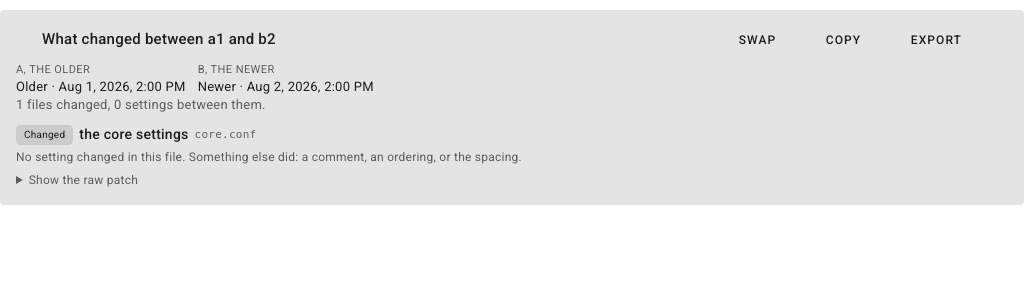
the export menu › downloads the chosen format and closes the menu
Click the button "Export" at (927, 40), box [879,26,974,54]
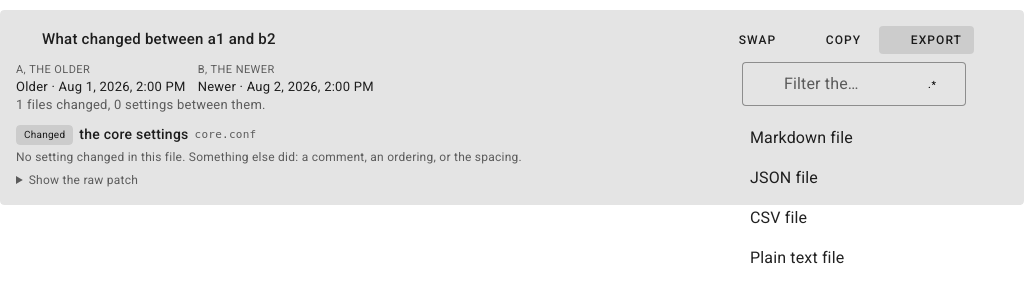
Click the list item "JSON file" at (784, 178), box [750,168,818,187]
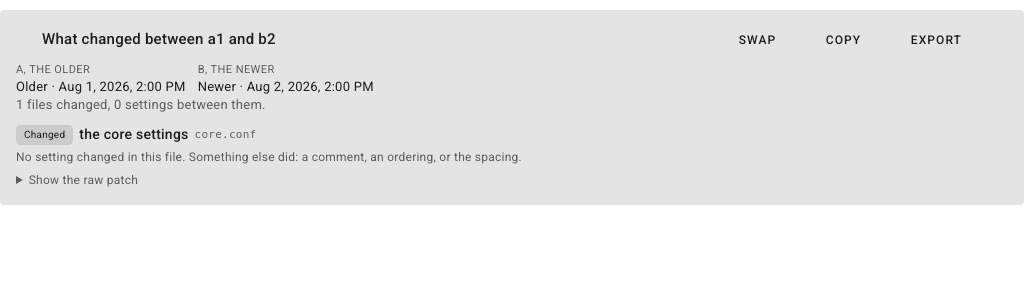
Result: the text "Markdown file" is gone
